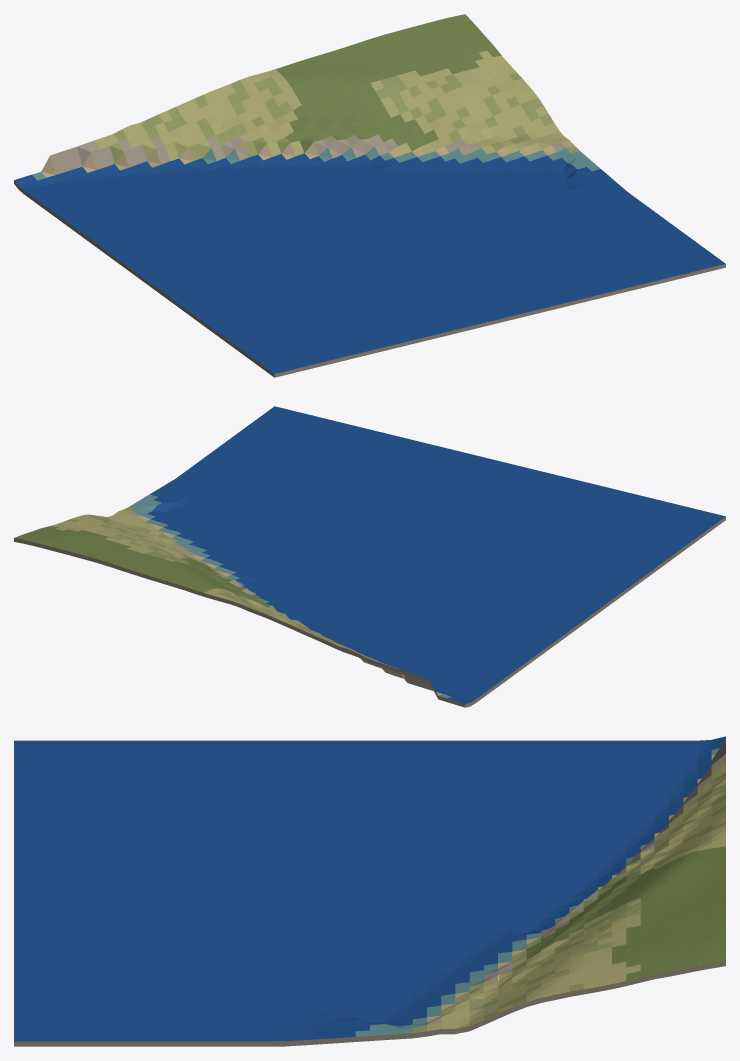
The model's file is parca_+4_-10-uzak.glb.
3 renders of one model, top to bottom at view 1: azimuth 30°, elevation 25°; view 2: azimuth 150°, elevation 25°; view 3: azimuth 270°, elevation 25°, orthographic. The views are drawn at different scales.
Visible parts, largest first — view 1: parca_+4_-10_arazi_uzak; view 2: parca_+4_-10_arazi_uzak; view 3: parca_+4_-10_arazi_uzak.
Part boxes in pixels (x1,y1,x2,y2): parca_+4_-10_arazi_uzak: [14, 14, 725, 377]; parca_+4_-10_arazi_uzak: [14, 406, 725, 707]; parca_+4_-10_arazi_uzak: [14, 736, 725, 1046].
Size of the model in its own units: 1000 by 134 by 1000.
